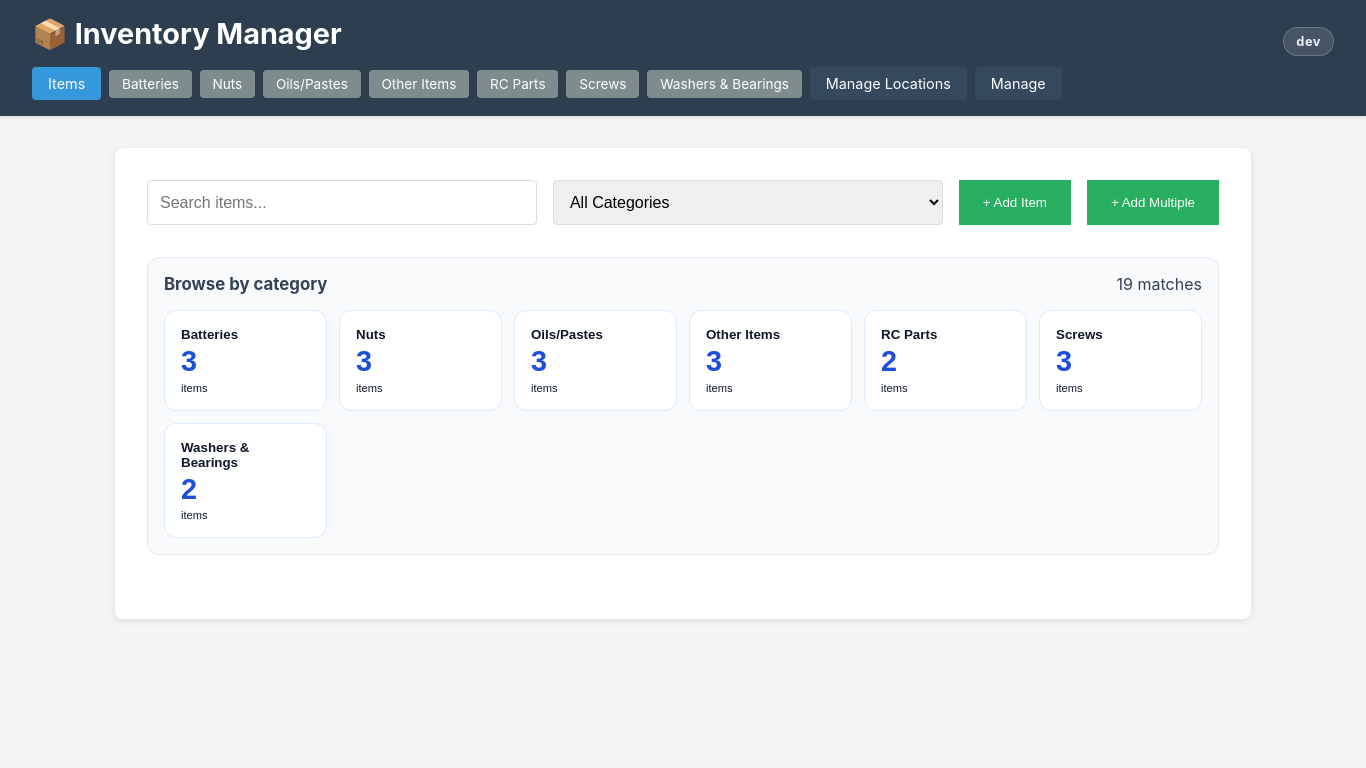
Test: switching categories in the app › Screws opens sorted by its default column (Size ↑)
Click the link "Screws": coordinates (603, 84) top-left (566, 70), bottom-right (639, 98)
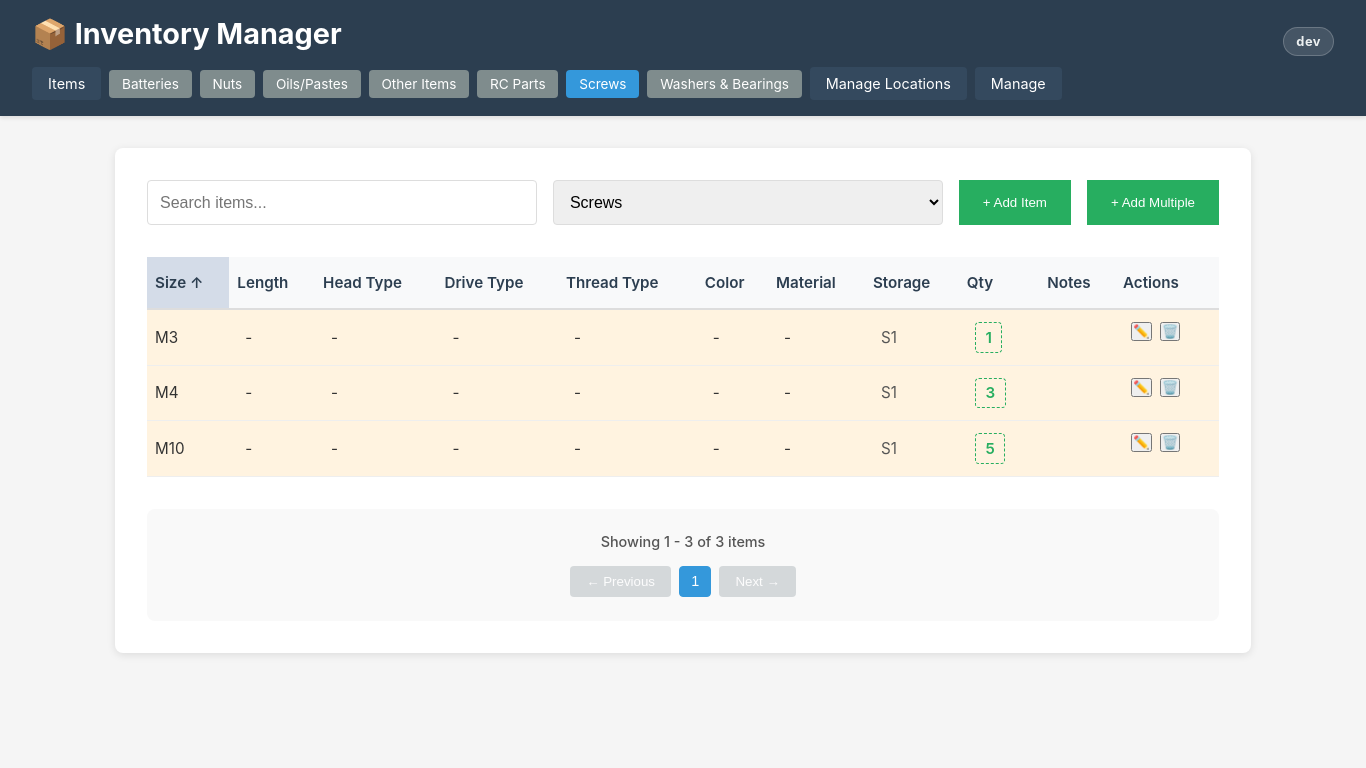
Now the column heading "Size ↑" is shown, box top-left (147, 257), bottom-right (229, 309)
